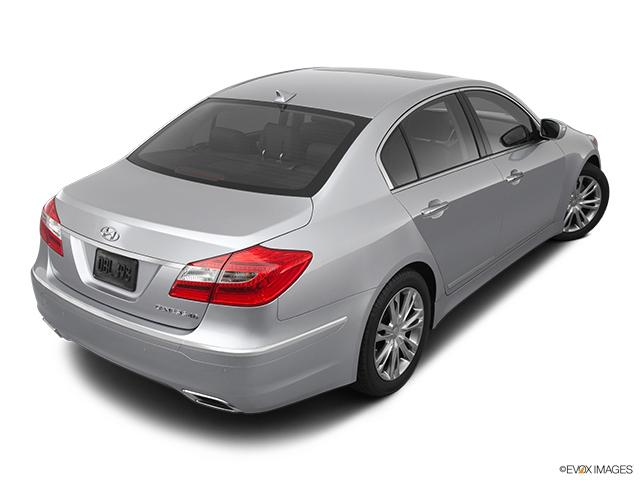car: (11, 43, 633, 439)
